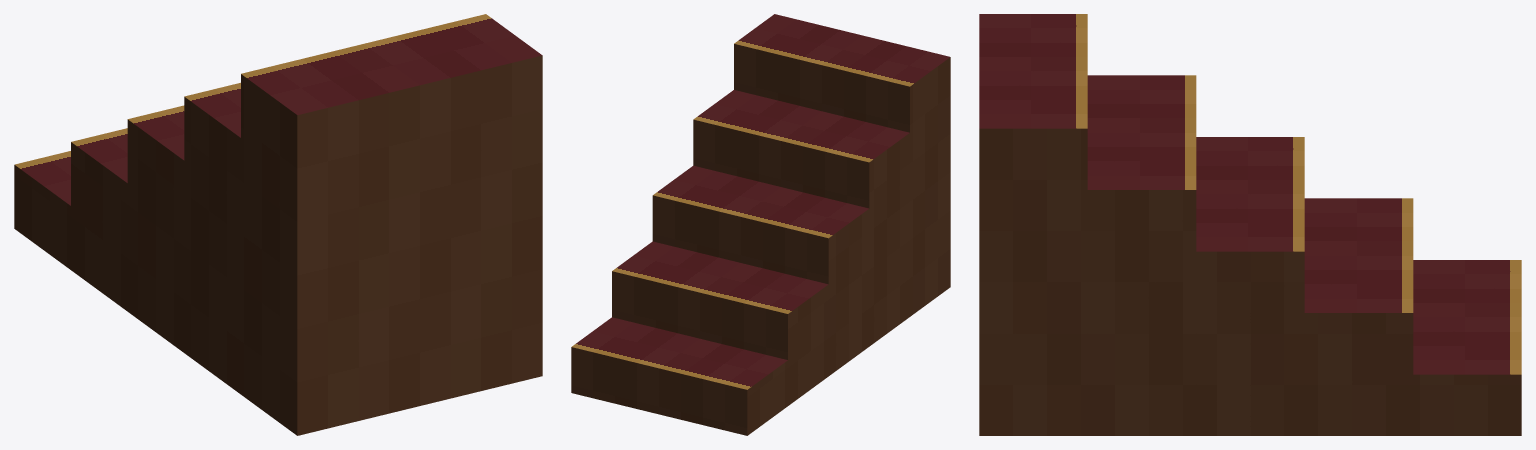
The model's file is casino_stair_module.gltf.
3 renders of one model, left to right at view 1: azimuth 30°, elevation 25°; view 2: azimuth 150°, elevation 25°; view 3: azimuth 270°, elevation 25°, orthographic. The views are drawn at different scales.
Parts seen in each view (by area): view 1: CasinoStairFlight; view 2: CasinoStairFlight; view 3: CasinoStairFlight.
Boxes of the visible parts, <box> form: CasinoStairFlight: <box>14,14,542,435</box>; CasinoStairFlight: <box>571,14,950,435</box>; CasinoStairFlight: <box>979,14,1521,435</box>.
Size of the model in its own units: 1 by 1.25 by 2.
1 material, 1 textured.
